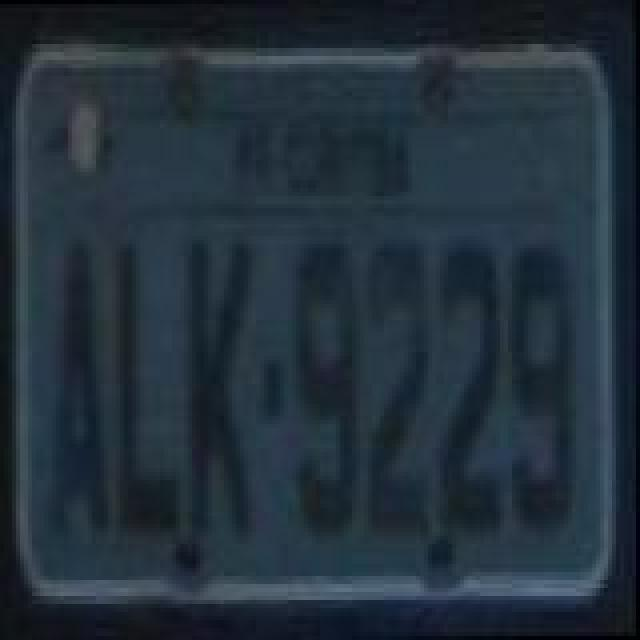2: (362, 238, 438, 542), (434, 242, 510, 538)
9: (292, 236, 364, 540), (508, 236, 580, 540)
A: (46, 234, 114, 542)
K: (186, 238, 262, 550)
L: (116, 232, 188, 540)
